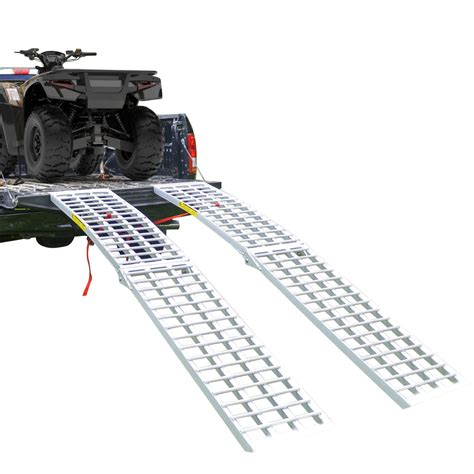Yard Ramp: (51, 182, 462, 454)
